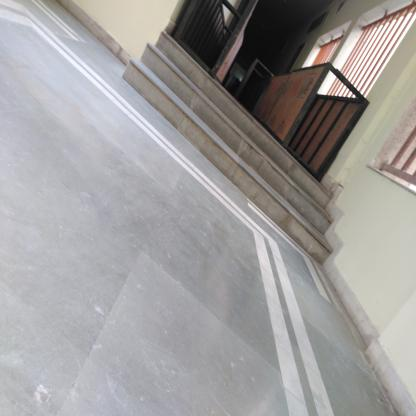stairs: (200, 110, 260, 170)
